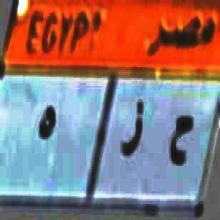5: (36, 98, 59, 152)
7aa: (168, 111, 192, 173)
zay: (119, 97, 146, 164)
